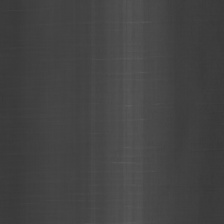waist_folding: (58, 45, 163, 212)
